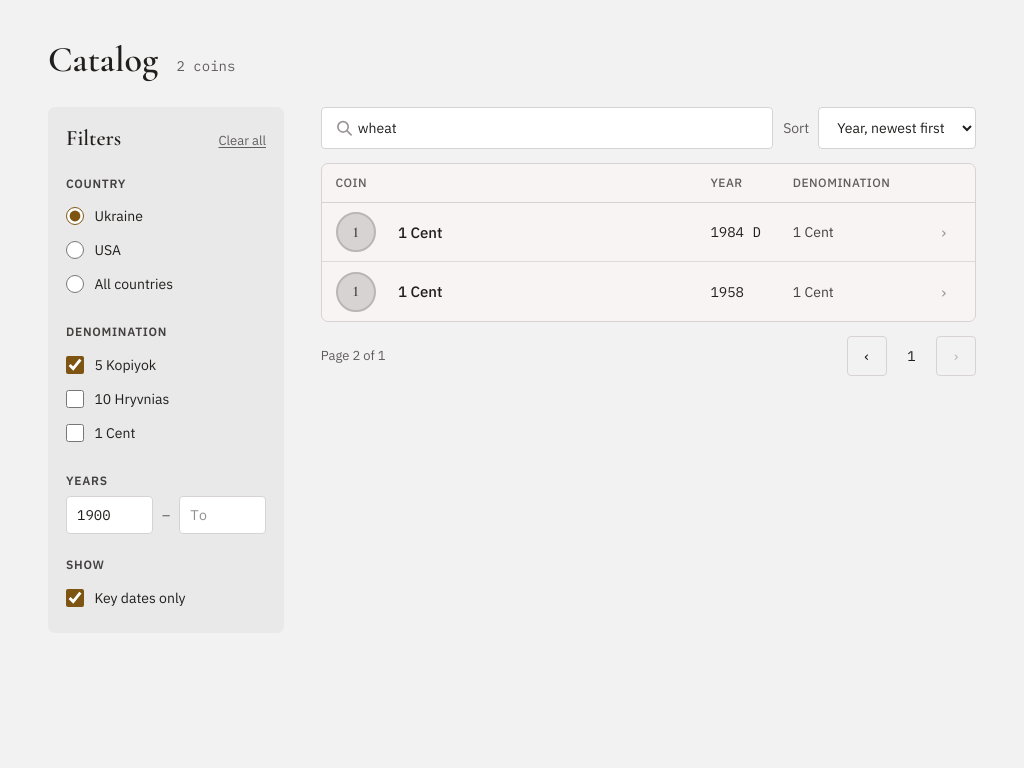
Test: CatalogPage › Clear all (criterion #8) › resets filters, search and years but keeps the sort
Click the button with test id "catalog-clear-all": (242, 141) [218,131,266,151]
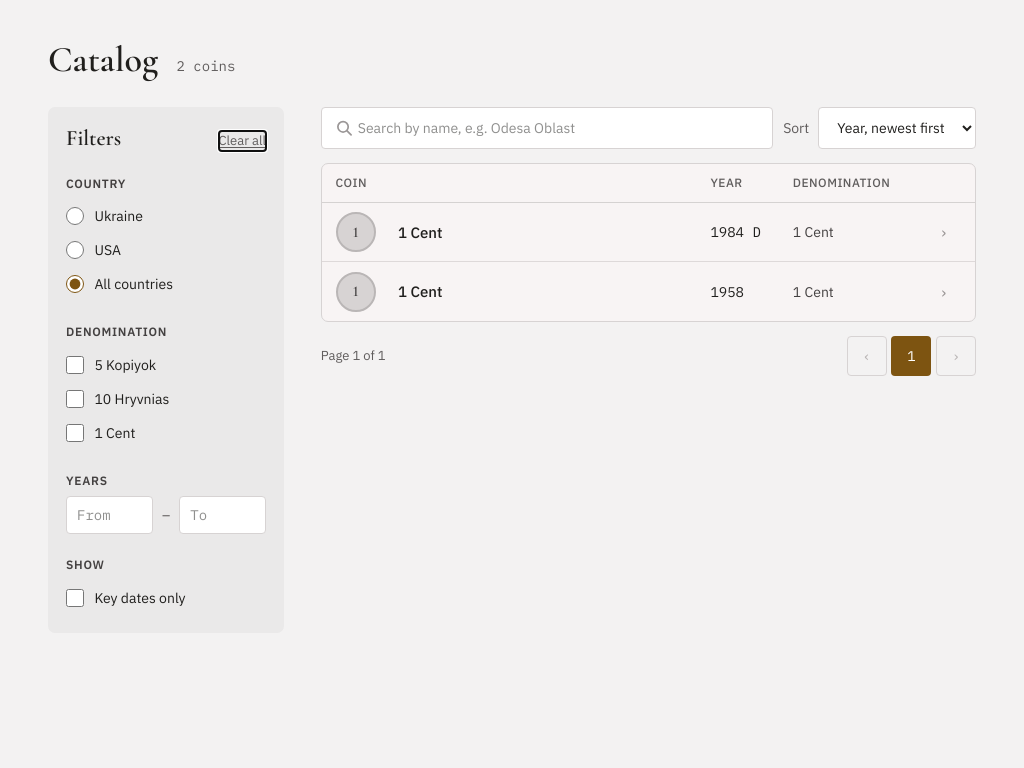
Now the search field with test id "catalog-search" is empty, box [321,107,773,149]
Now the field with test id "catalog-filter-year-min" is empty, box [66,496,153,534]
Now the radio button with test id "catalog-filter-country-all" is checked, box [66,275,84,294]
